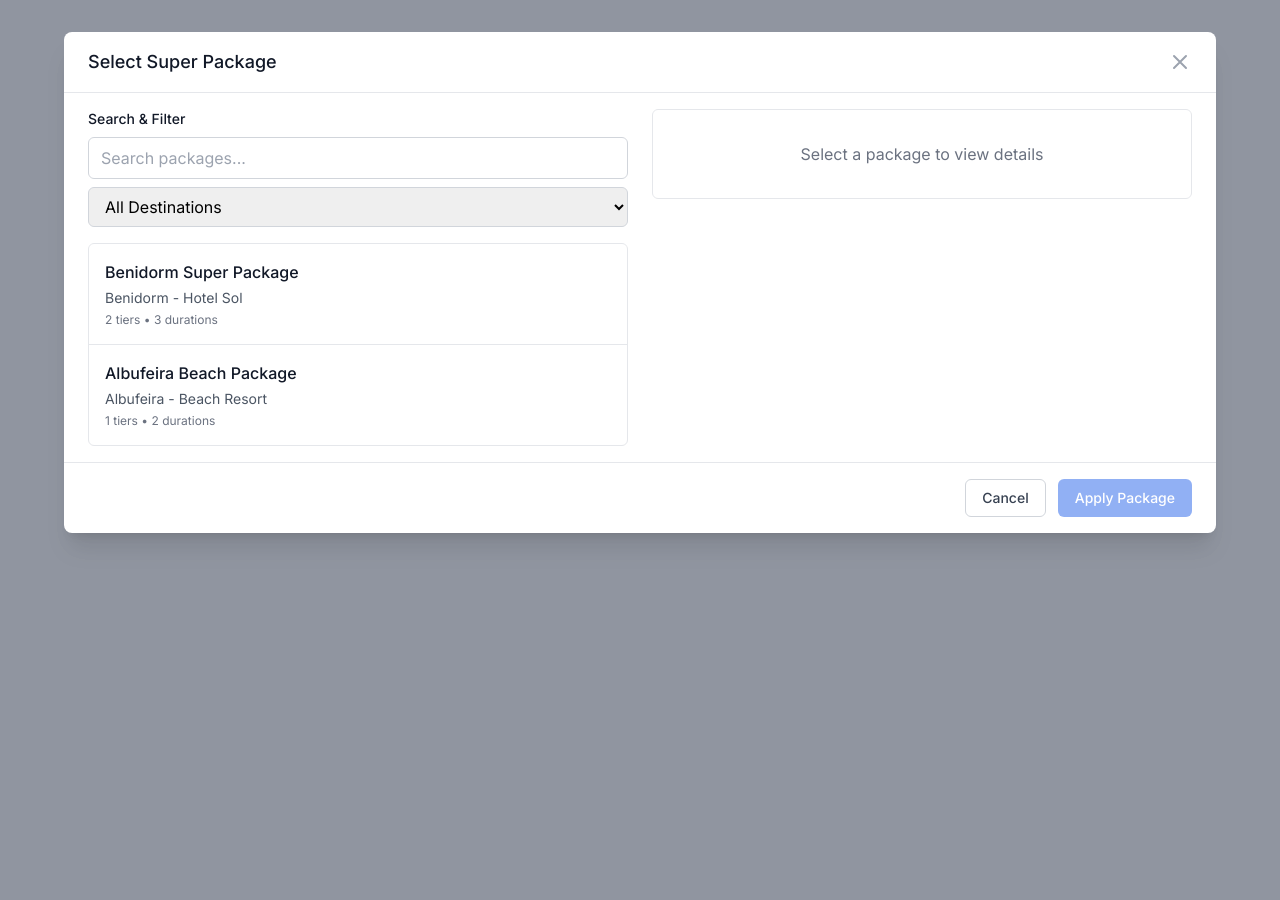
Test: PackageSelector › should show package details when selected
This screenshot has width=1280, height=900.
Click the text "Benidorm Super Package" at (202, 272), box 105,262 -> 299,282
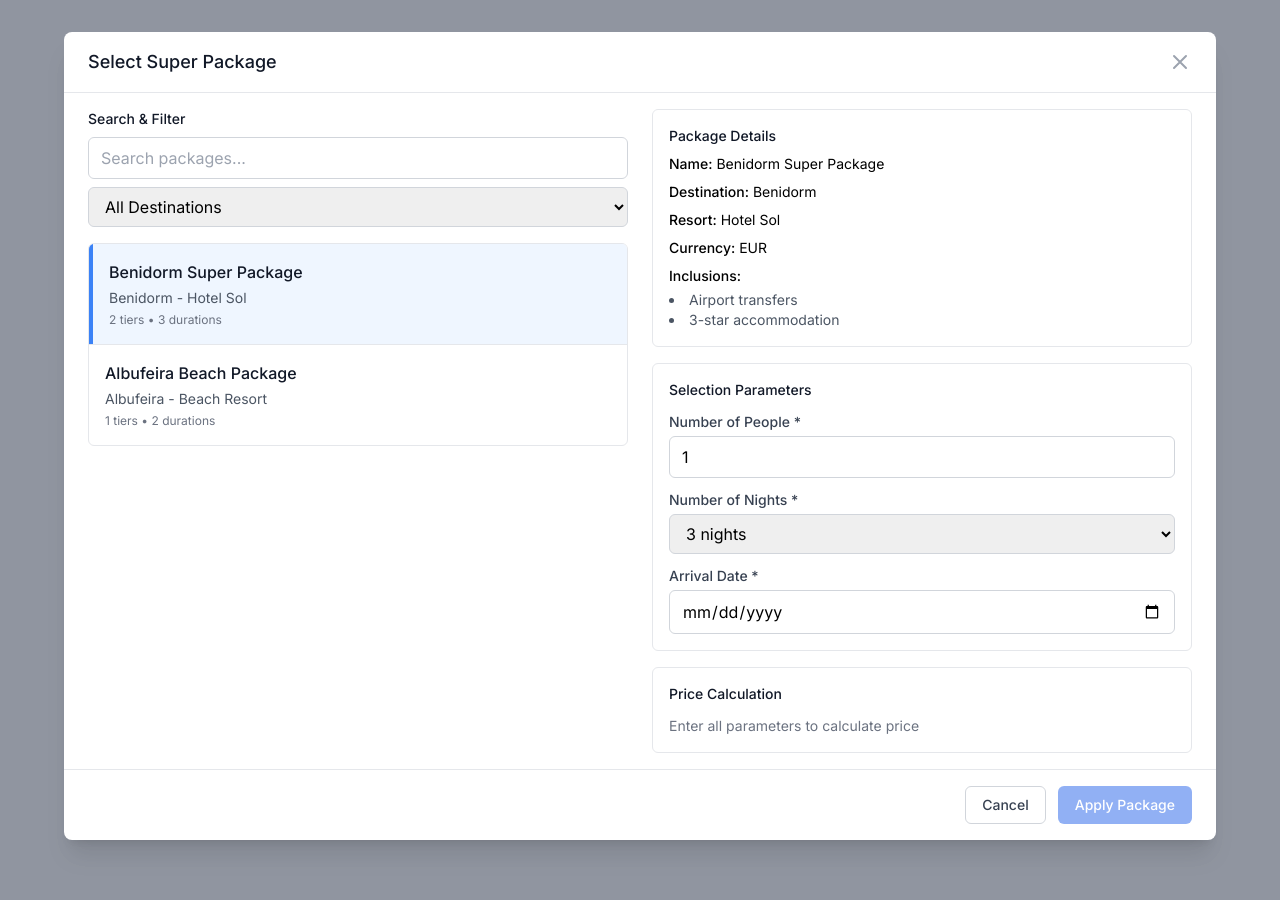
Expected: the heading "Package Details" is shown, 669,127 -> 776,144
Expected: the list item "Airport transfers" is shown, 689,291 -> 798,308
Expected: the list item "3-star accommodation" is shown, 689,311 -> 840,328
